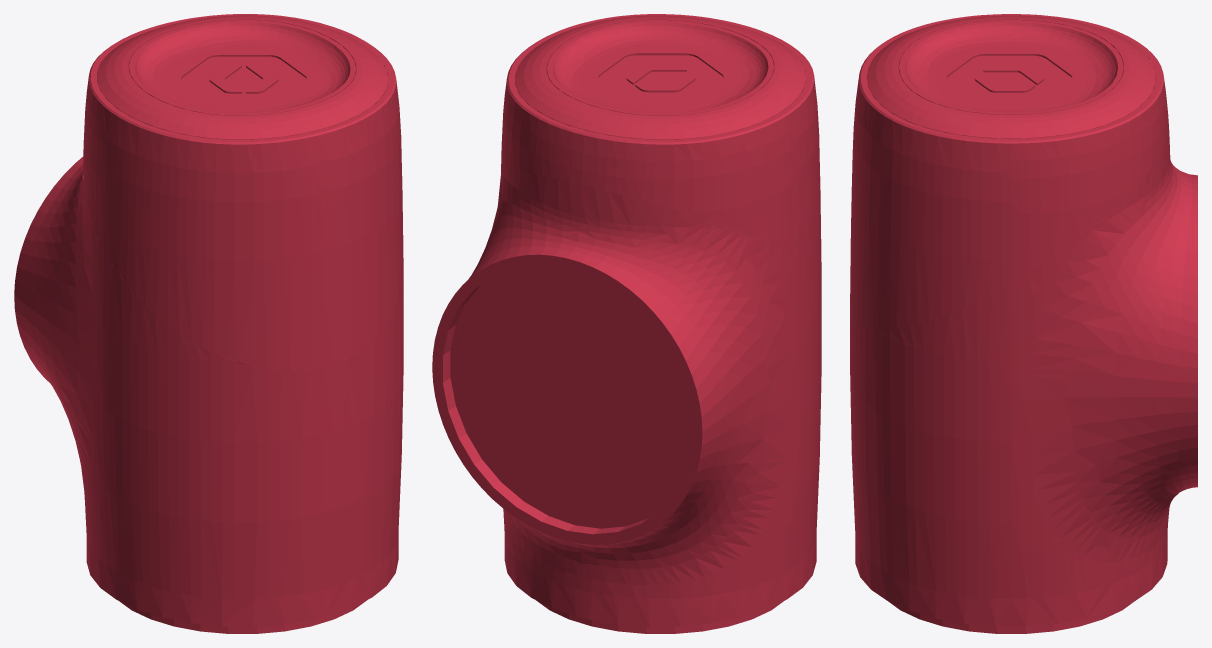
3 views of the same model, side by side, from view 1: azimuth 30°, elevation 25°; view 2: azimuth 150°, elevation 25°; view 3: azimuth 270°, elevation 25° (orthographic).
Parts seen in each view (by area): view 1: Link4-mesh; view 2: Link4-mesh; view 3: Link4-mesh.
Part boxes in pixels (left/top/right/bottom): Link4-mesh: left=14, top=14, right=403, bottom=633; Link4-mesh: left=432, top=14, right=821, bottom=633; Link4-mesh: left=850, top=14, right=1197, bottom=633.
Bounding box in the file's own units: 0.0848 × 0.1475 × 0.0914.
